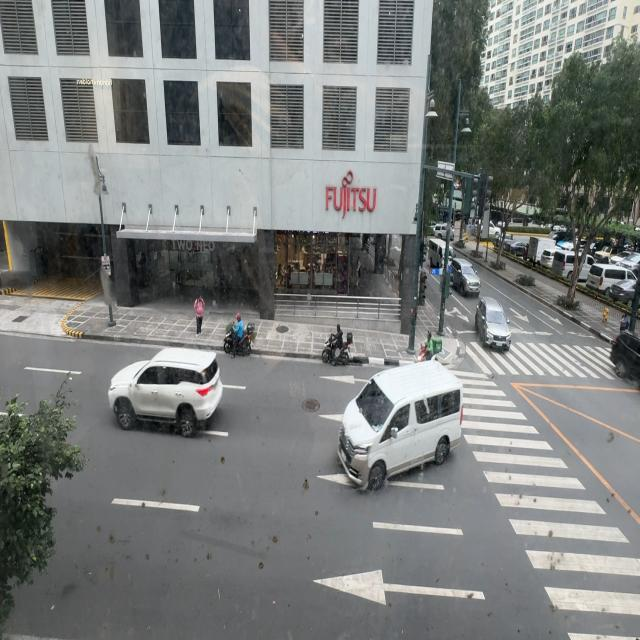pedestrain: (187, 290, 211, 338)
waiting: (619, 308, 629, 329)
